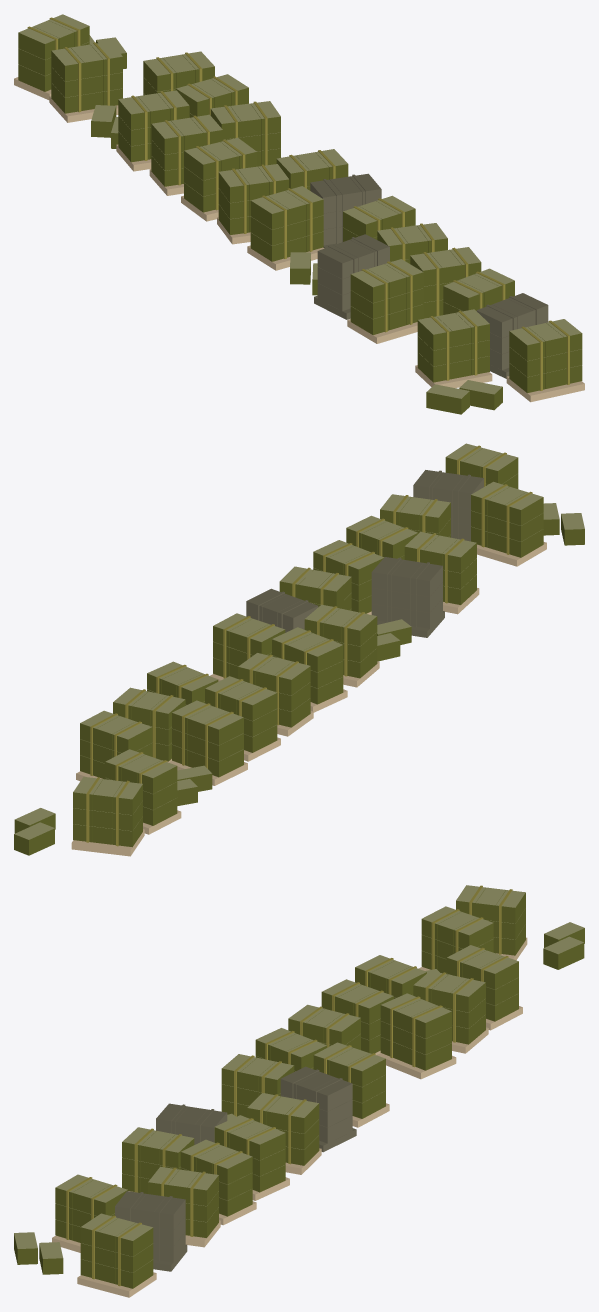
File: SM_CargaMunicion_Danado_LOD0.fbx
3 views of the same model, one above another, from view 1: azimuth 30°, elevation 25°; view 2: azimuth 150°, elevation 25°; view 3: azimuth 330°, elevation 25° (orthographic).
Parts seen in each view (by area): view 1: SM_carga_vagon_v3_LOD0; view 2: SM_carga_vagon_v3_LOD0; view 3: SM_carga_vagon_v3_LOD0.
Part boxes in pixels (bbox=[...]): SM_carga_vagon_v3_LOD0: bbox=[14, 14, 584, 414]; SM_carga_vagon_v3_LOD0: bbox=[14, 443, 584, 856]; SM_carga_vagon_v3_LOD0: bbox=[14, 885, 584, 1297].
Size of the model in its own units: 3.21 by 1.19 by 18.73.
